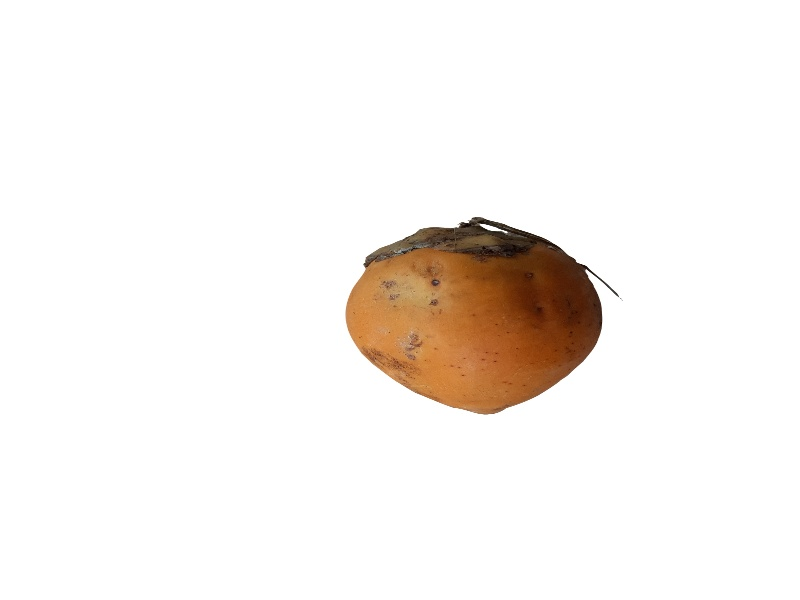arecanut: (329, 207, 626, 426)
